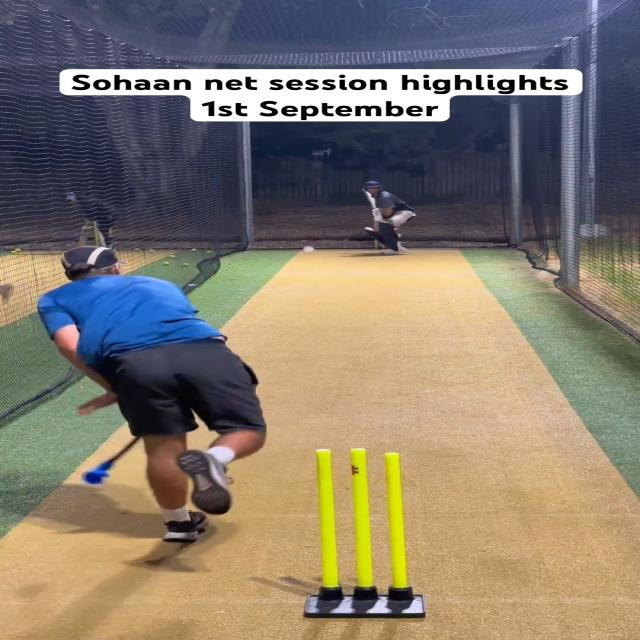Cricket ball: (303, 246, 315, 253)
